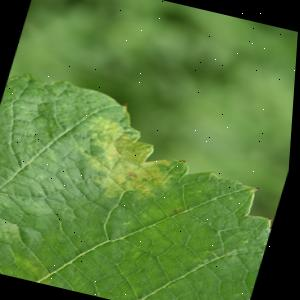Folha: (0, 66, 297, 300)
Fungo: (67, 113, 188, 208), (208, 248, 223, 258), (129, 170, 141, 178), (254, 186, 265, 194), (119, 100, 130, 107), (179, 158, 190, 163), (175, 208, 183, 214)
